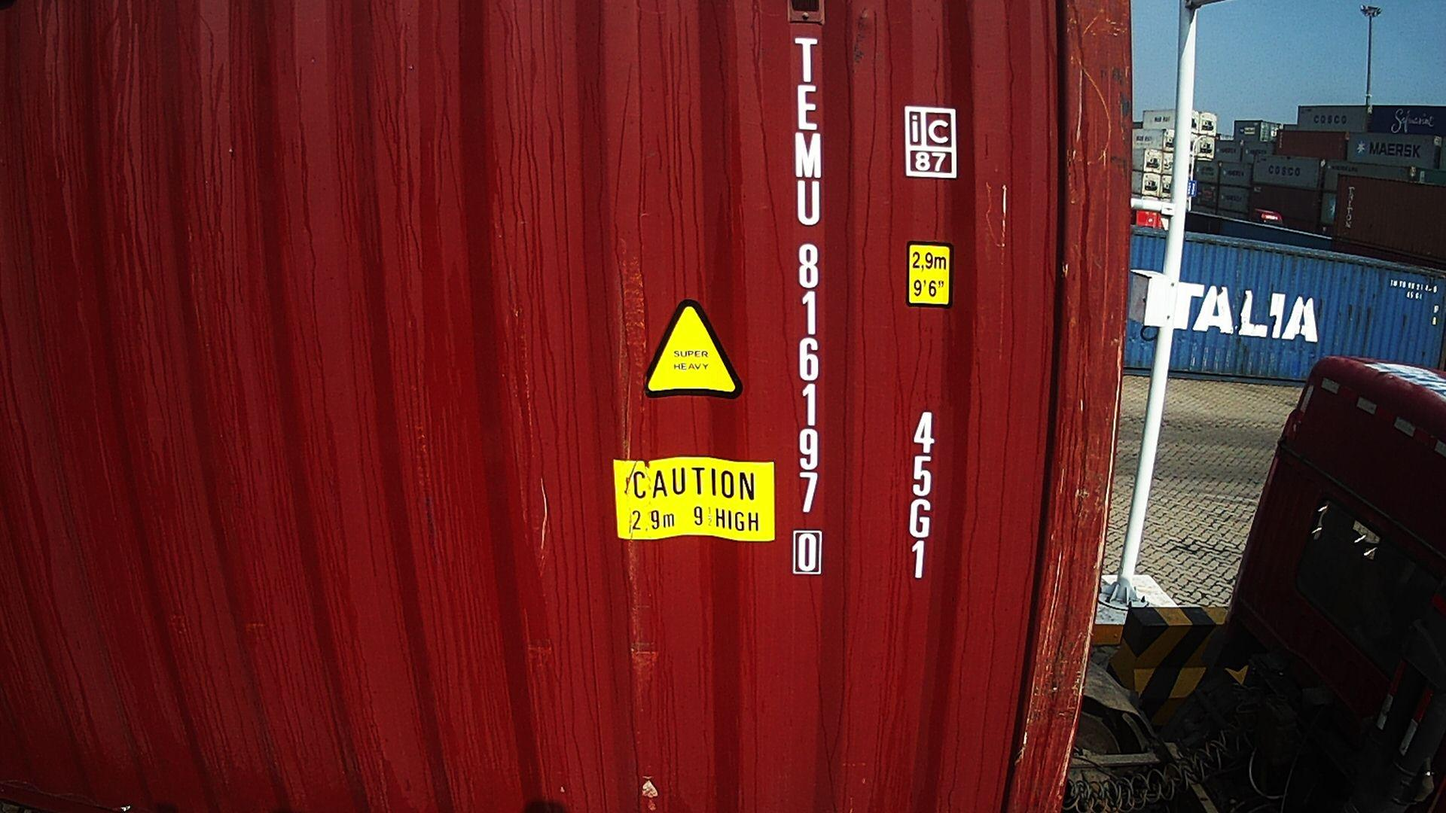container-numbers: (789, 30, 830, 579), (902, 405, 938, 585)
